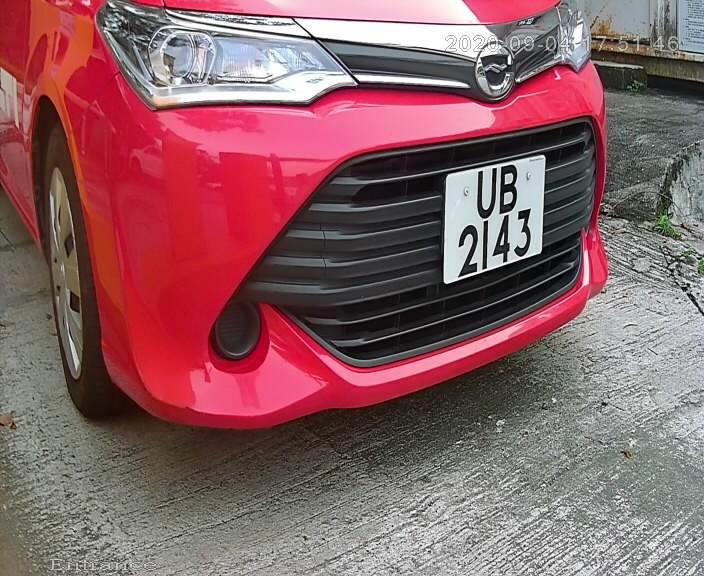License Plate: (437, 147, 551, 291)
